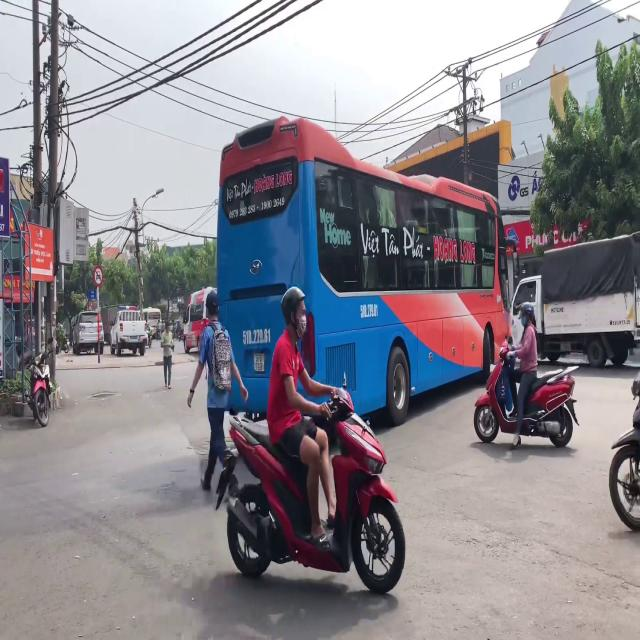bien_trang: (253, 352, 264, 372)
